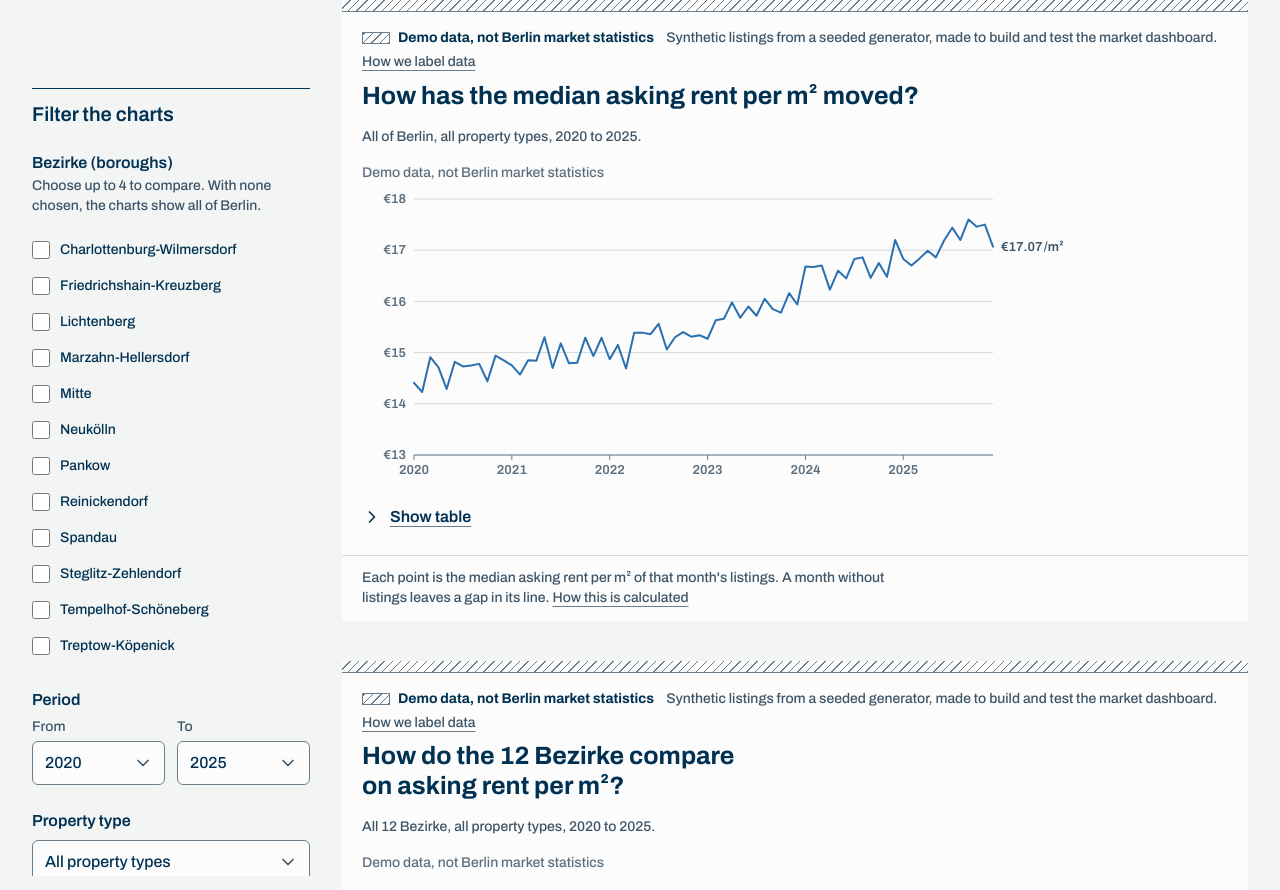
Test: MarketView › keeps the other modules when one request fails, and can try again
The width and height of the screenshot is (1280, 890).
Click the checkbox labelled "Pankow" at (41, 466), box [32, 457, 50, 475]
(page scrolled)
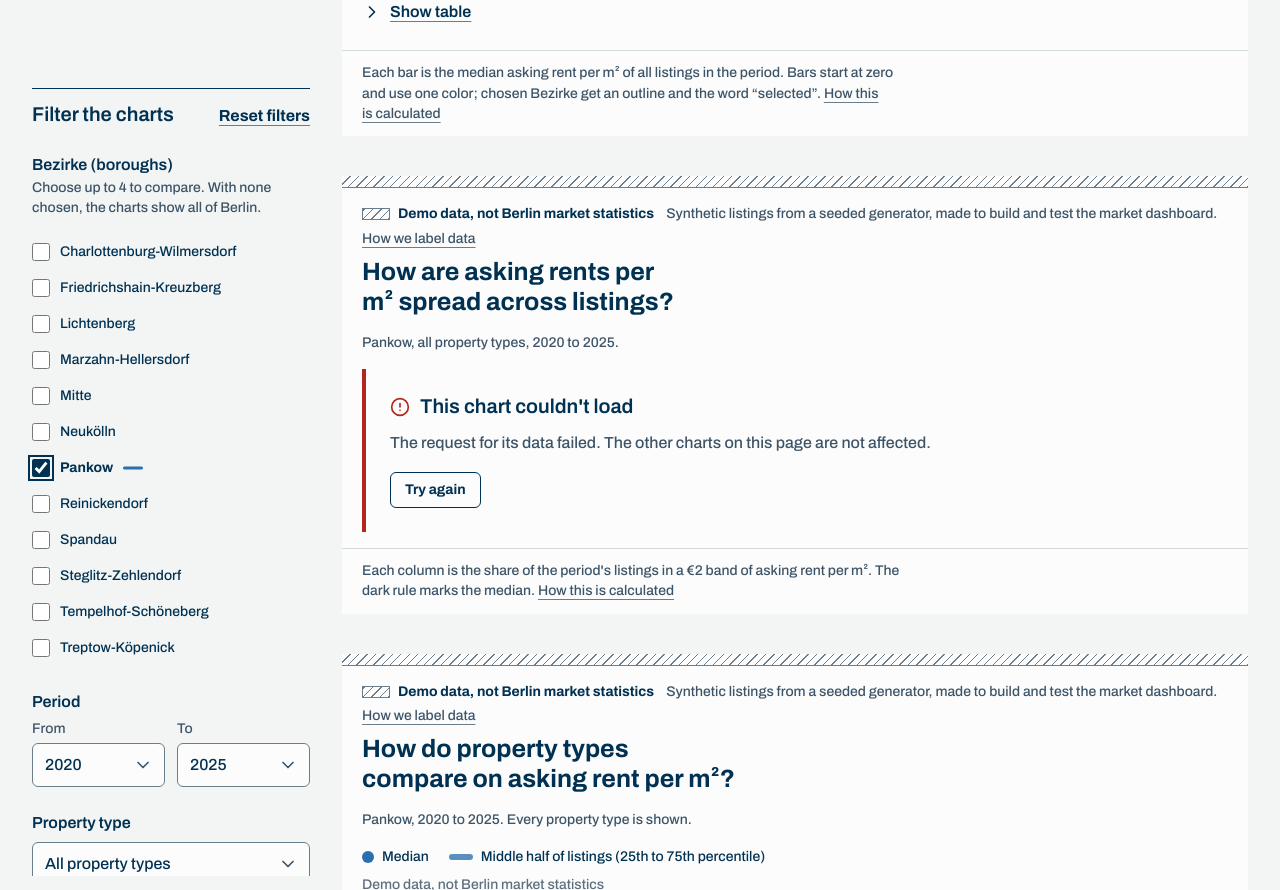
Check: the heading "This chart couldn't load" is shown, box [390, 395, 634, 417]
Click the button "Try again" at (435, 490), box [390, 472, 481, 508]
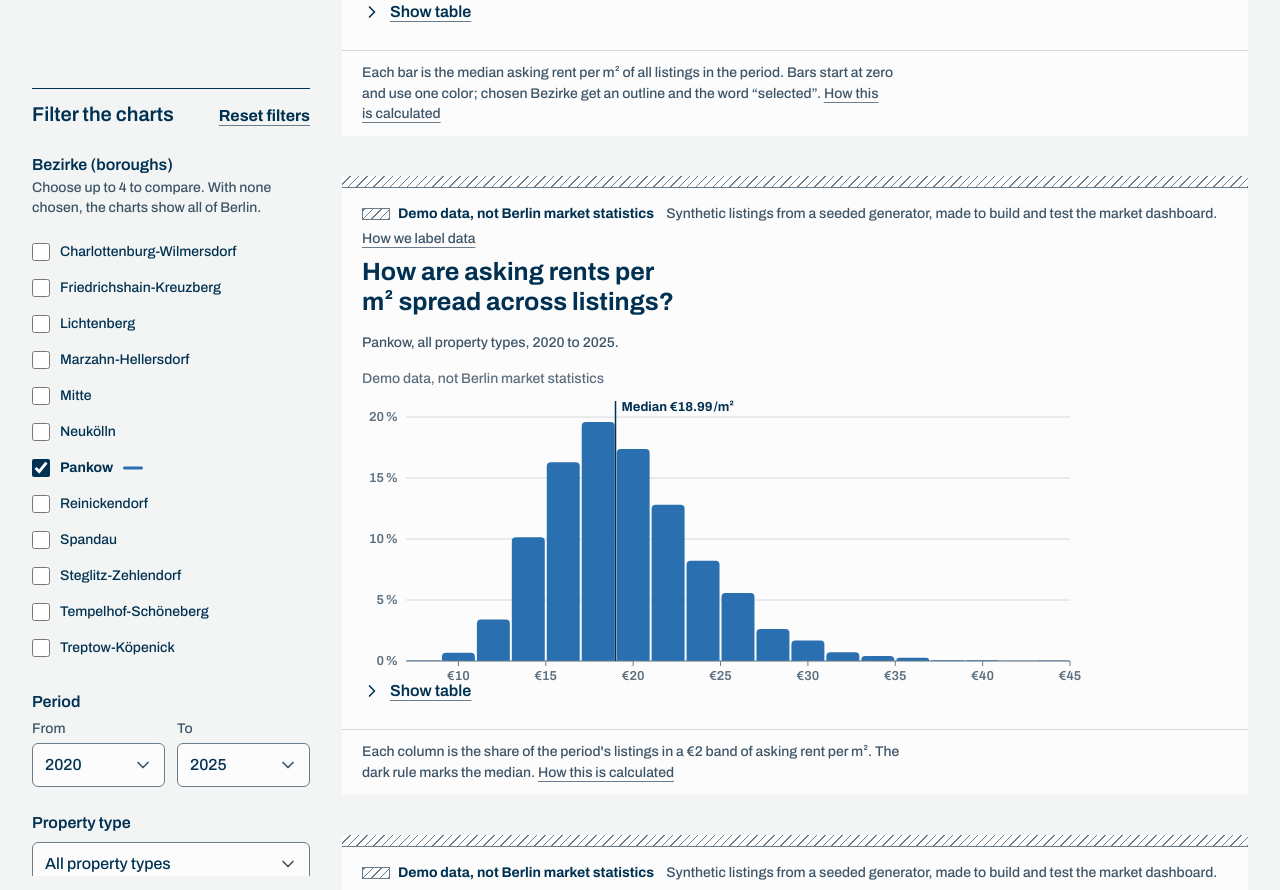
Check: the slider is shown, box [362, 369, 1082, 689]
